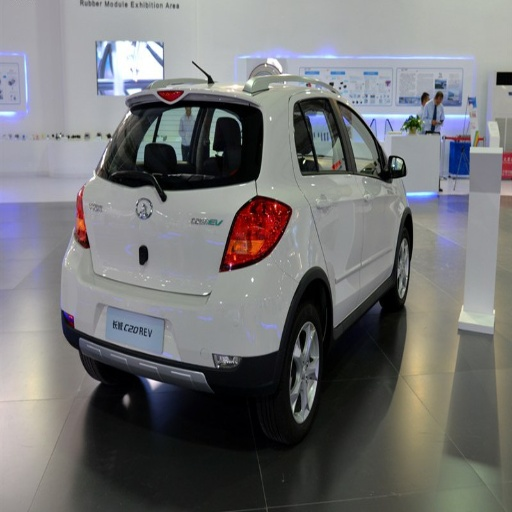back_bumper: (62, 243, 296, 395)
back_right_door: (296, 97, 359, 316)
trunk: (85, 179, 252, 313)
